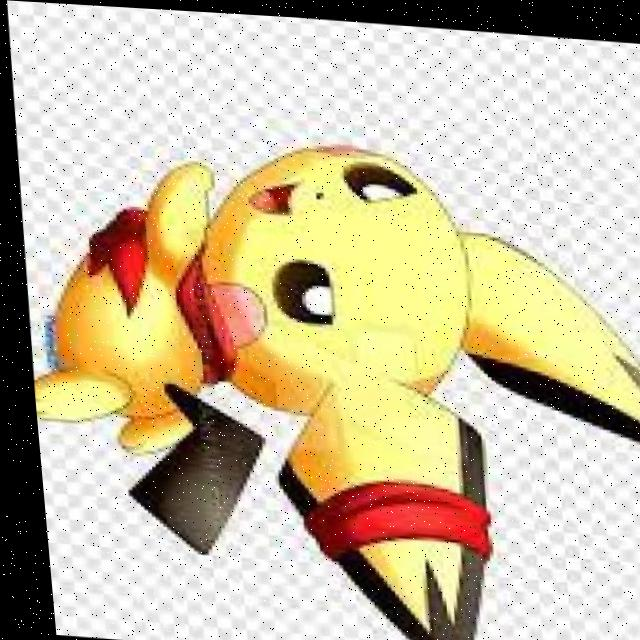pichu: (8, 118, 640, 596)
